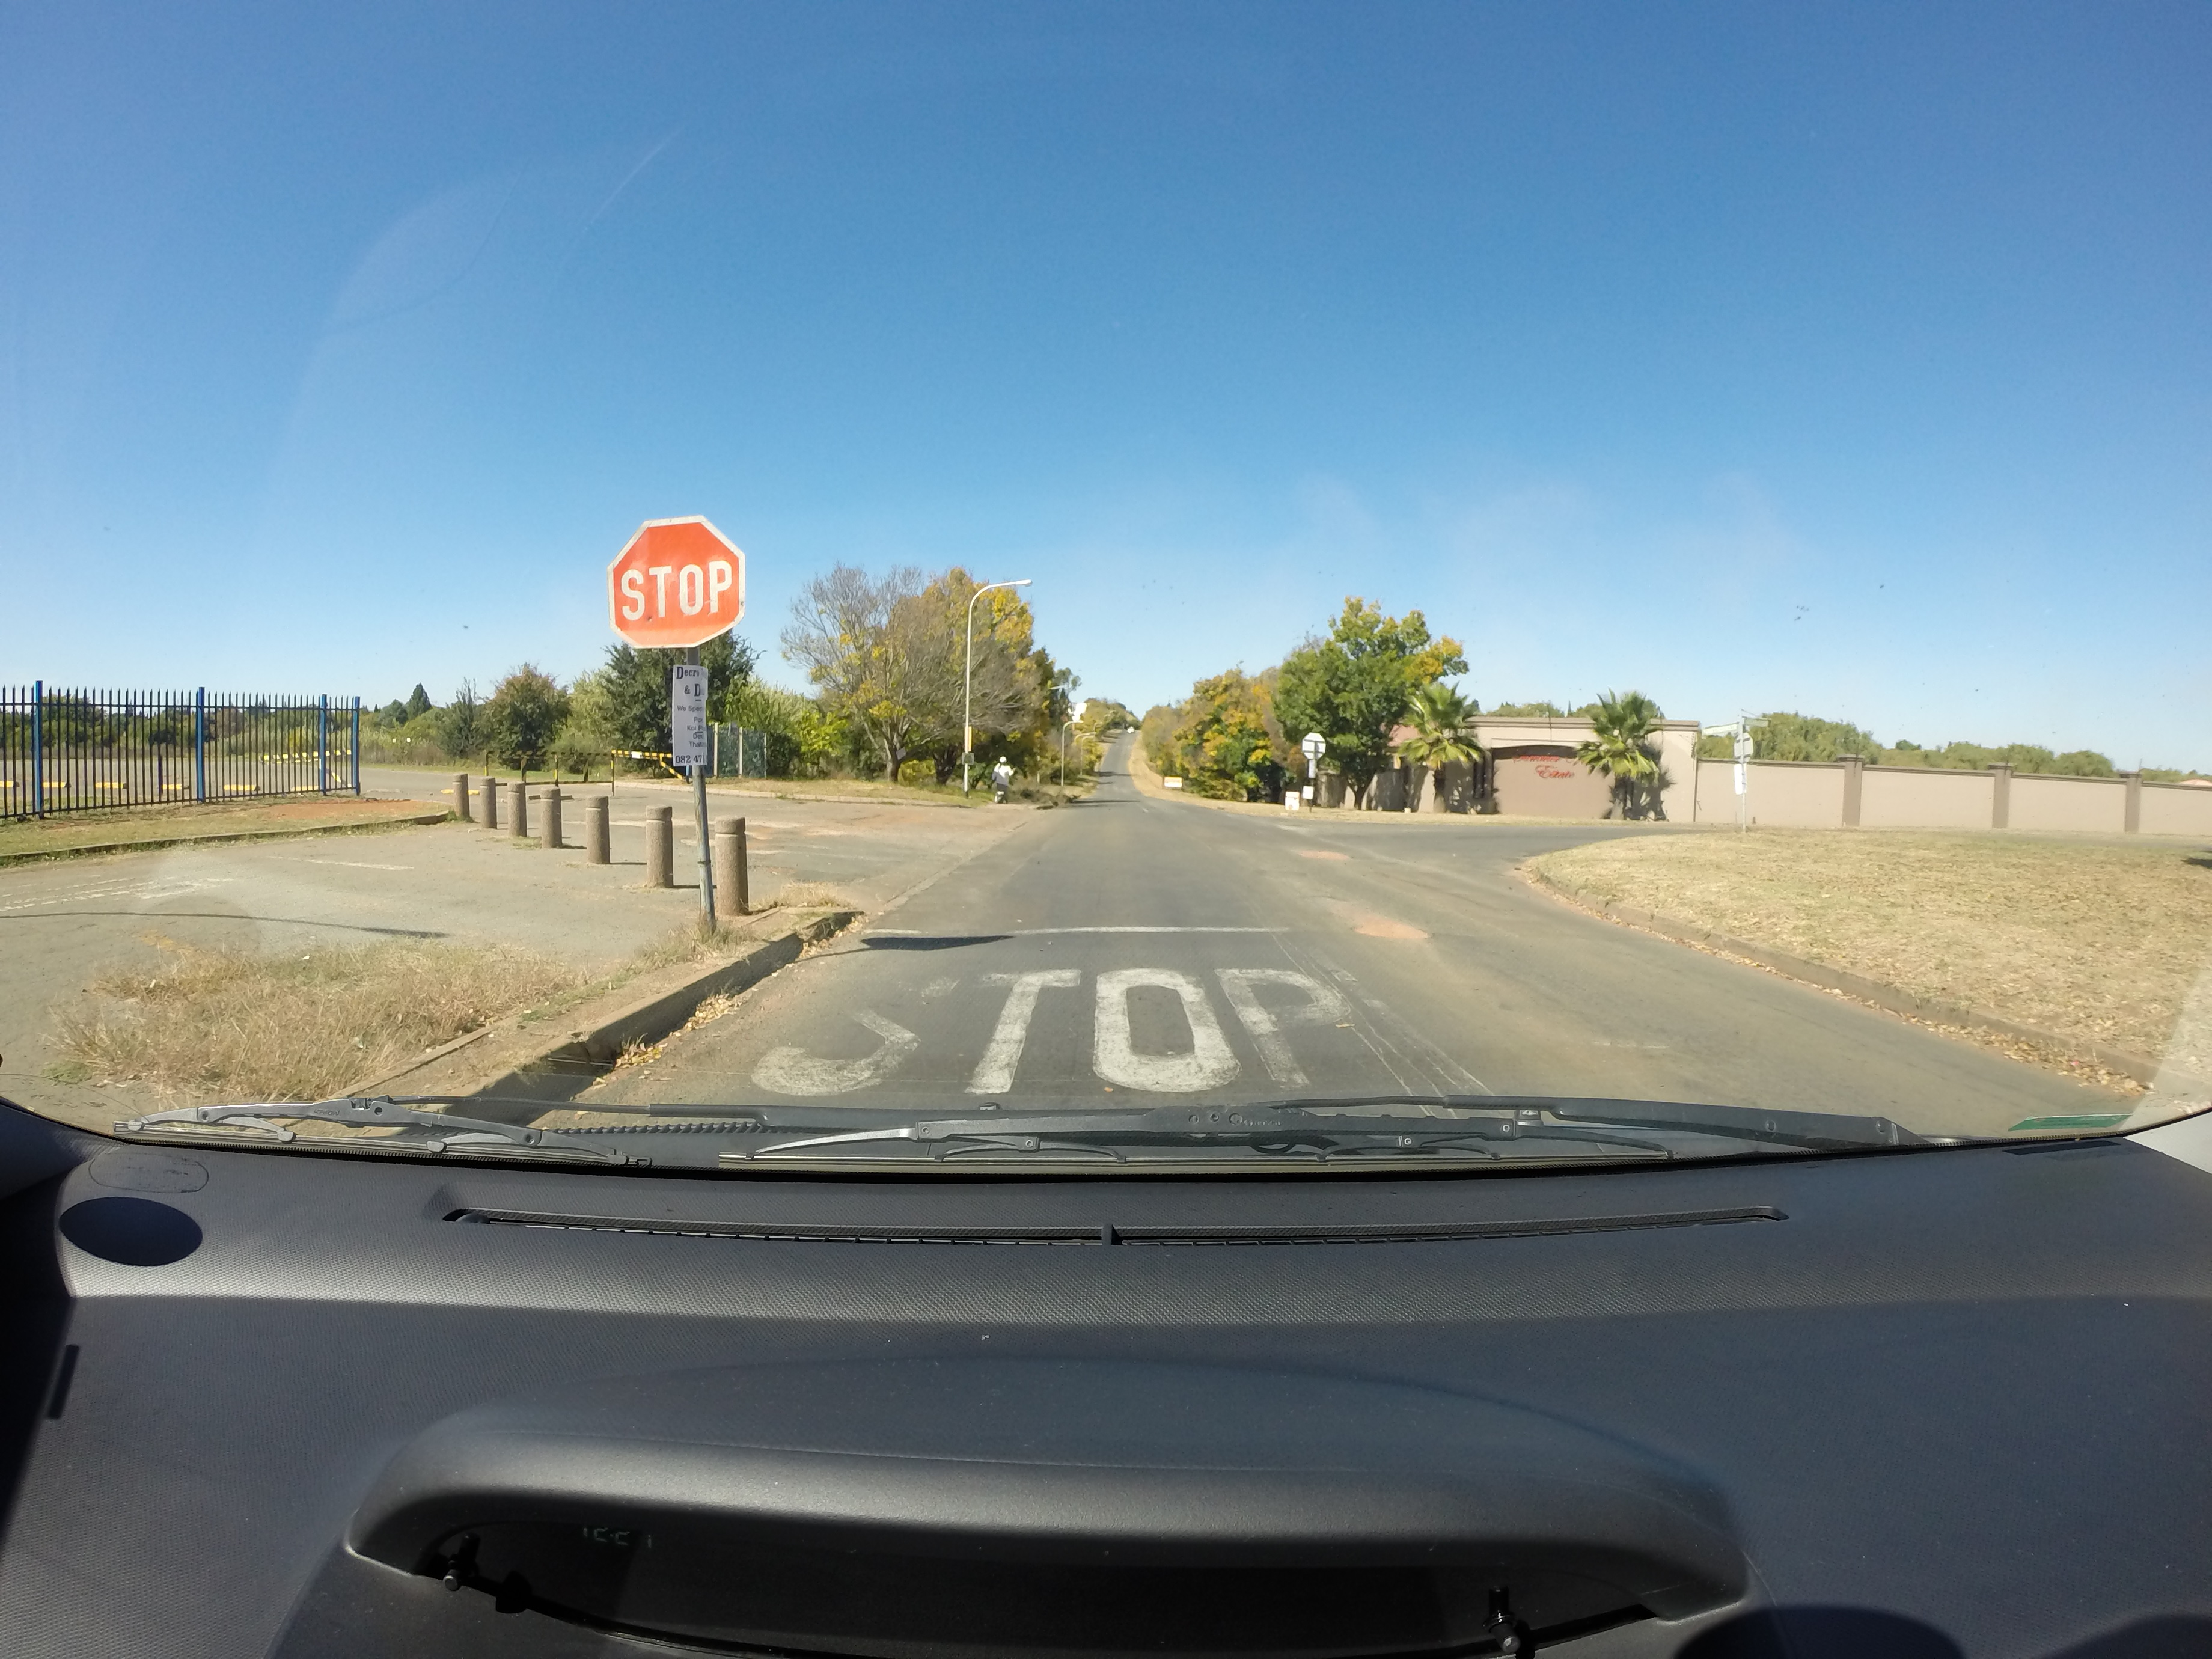pothole: (1346, 913, 1446, 948)
